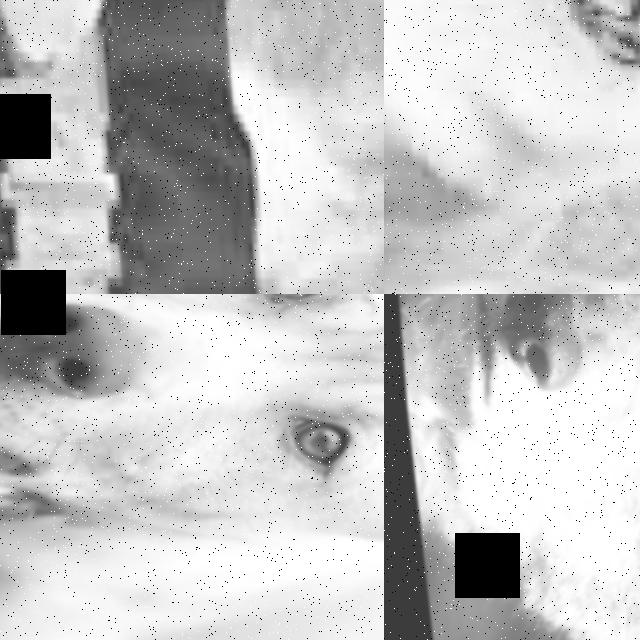dog: (0, 294, 384, 640), (384, 0, 640, 294), (208, 0, 384, 294), (384, 210, 640, 294)
wolf: (384, 294, 640, 640)
